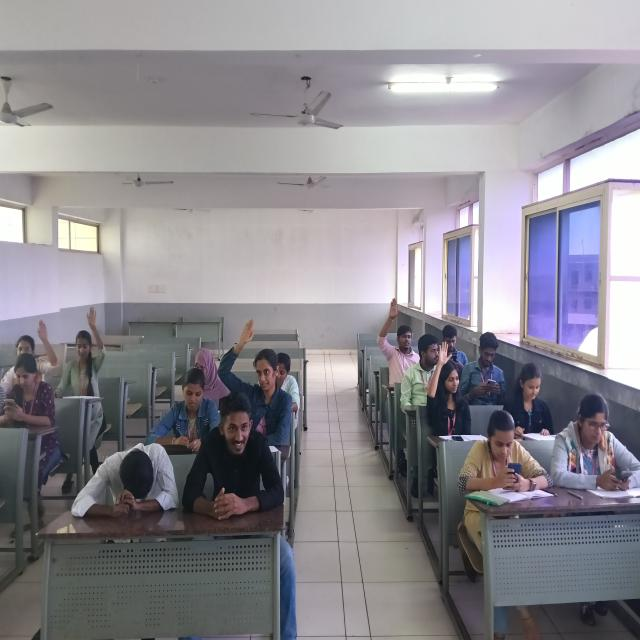Hand Rising: (220, 314, 301, 431), (372, 283, 424, 384), (62, 314, 118, 395), (4, 313, 62, 386), (428, 341, 472, 427)
Reading: (512, 364, 566, 439)
Sleeping: (76, 440, 185, 526)
Using Phone: (553, 394, 633, 484), (471, 408, 537, 493), (4, 359, 70, 442), (466, 327, 506, 403), (438, 322, 473, 364)
Writing: (143, 371, 230, 451)
